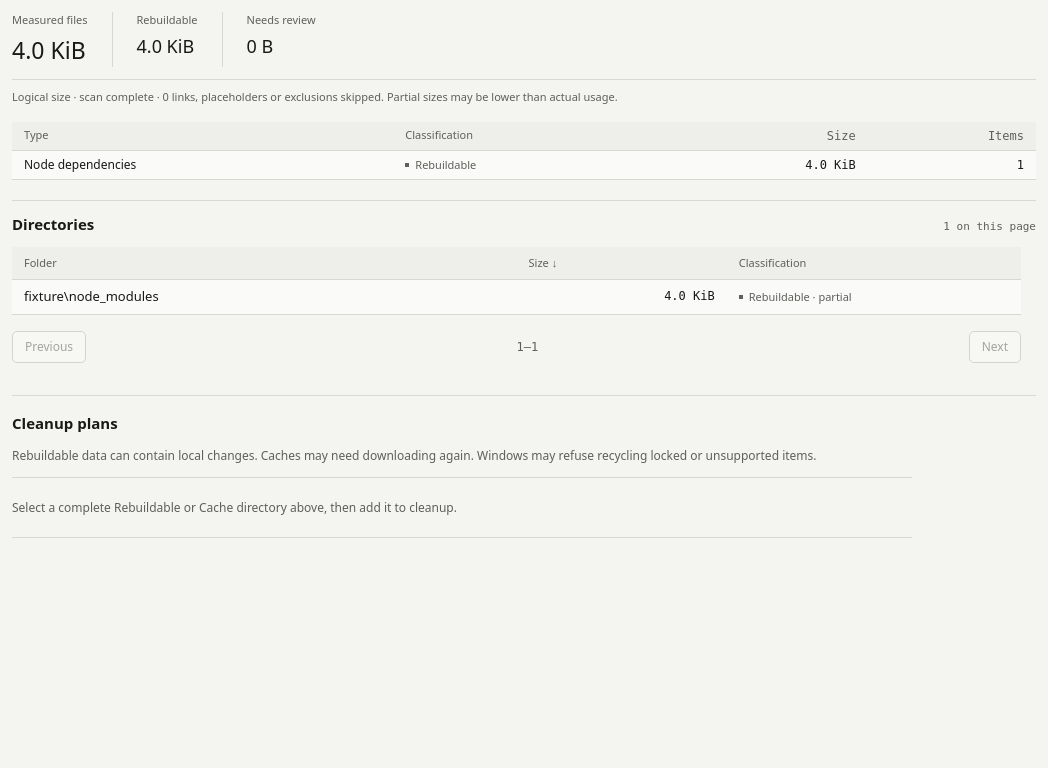
Test: shows classification evidence and incomplete measurements
This screenshot has width=1048, height=768.
Click the button "fixture\\node_modules" at [91, 297], box 24,287 -> 159,307
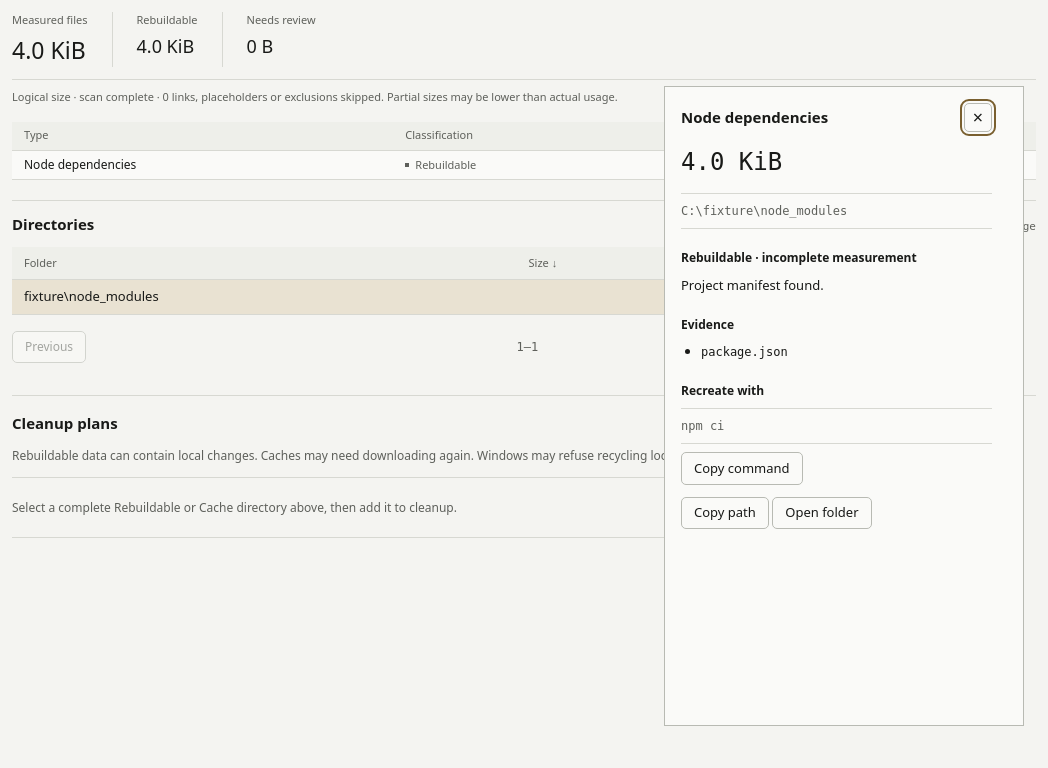
Check: the heading "Rebuildable · incomplete measurement" is shown, box 681,249 -> 917,266
Check: the text "package.json" is shown, box 701,345 -> 788,359
Check: the text "npm ci" is shown, box 681,408 -> 992,444
